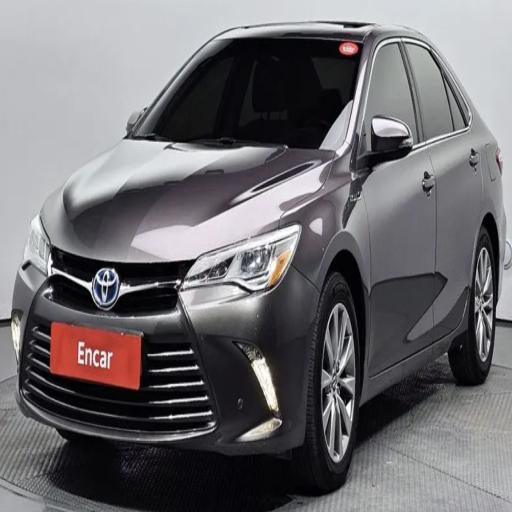normal: (20, 5, 504, 473)
